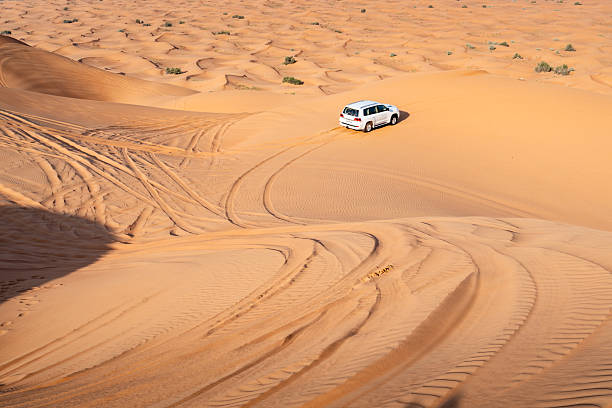vehicle_track: (0, 111, 611, 406), (0, 217, 611, 406), (0, 110, 241, 238), (379, 237, 536, 405), (305, 262, 481, 405), (244, 286, 380, 406), (0, 295, 153, 380), (225, 130, 341, 227), (333, 162, 536, 216), (0, 308, 114, 374), (122, 148, 201, 233), (224, 146, 293, 227), (262, 142, 327, 223), (149, 154, 222, 215), (286, 330, 357, 384), (33, 156, 64, 210), (209, 121, 234, 167), (185, 128, 204, 152), (53, 399, 58, 402)
